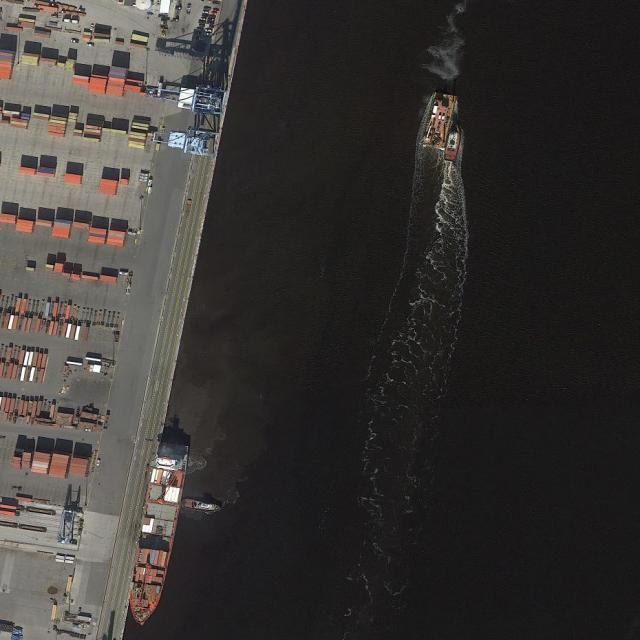Container Ship: (121, 438, 191, 628)
Other Ship: (422, 92, 456, 152), (443, 123, 464, 162)
